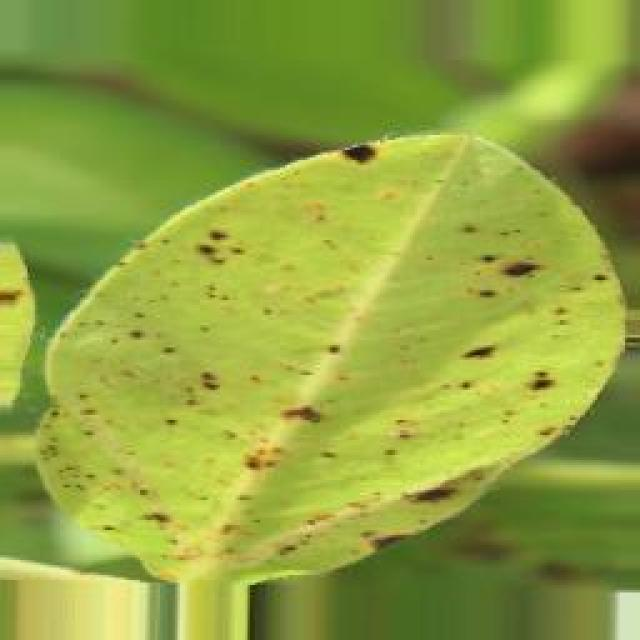Yellowish: (48, 120, 632, 592)
